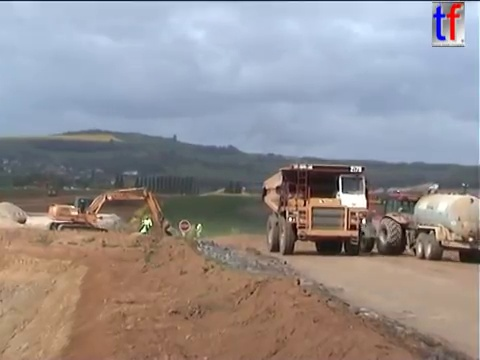excavator: (46, 185, 179, 243)
truck: (259, 161, 372, 258), (351, 188, 480, 266), (46, 186, 57, 197)
worker: (192, 219, 205, 242), (141, 212, 153, 234), (138, 220, 149, 240)
